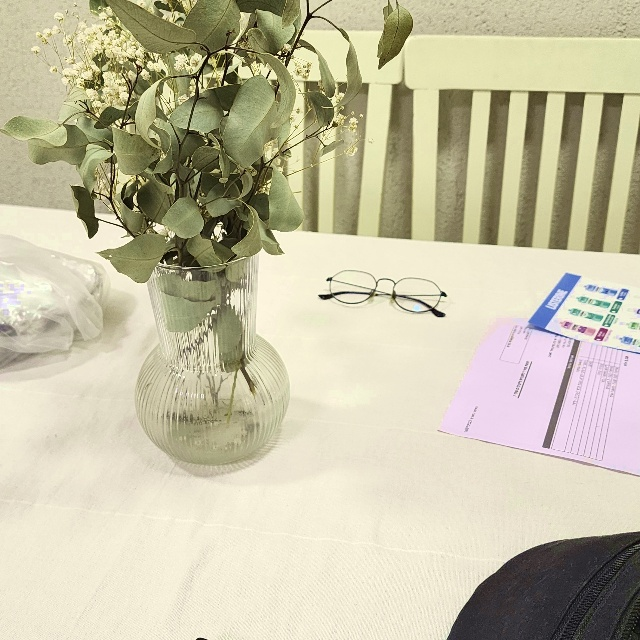glasses: (316, 267, 448, 319)
